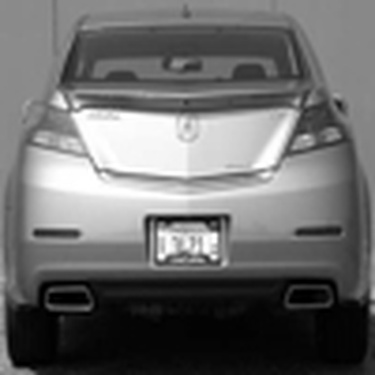car: (5, 5, 371, 369)
